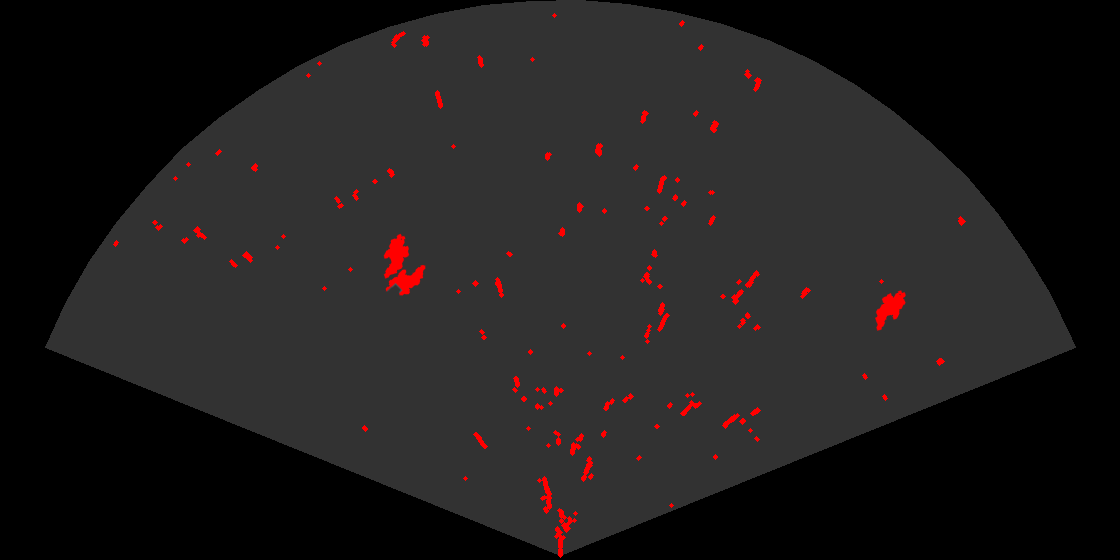AUV: (384, 263, 427, 297), (874, 289, 907, 332), (382, 232, 411, 280)
